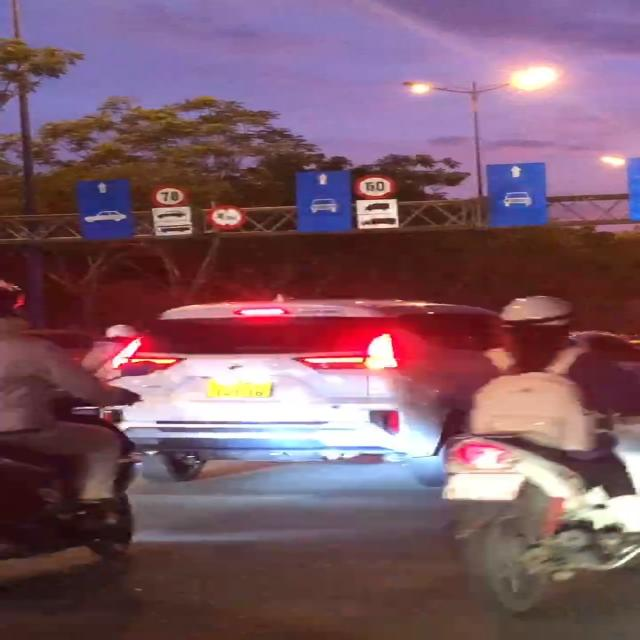Bien bao toc do toi da cho phep: (350, 170, 398, 200), (148, 182, 192, 207)
